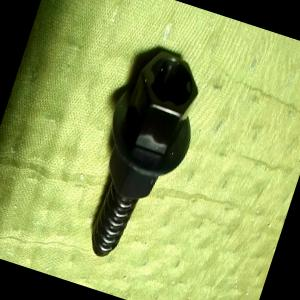parafuso: (67, 40, 215, 275)
